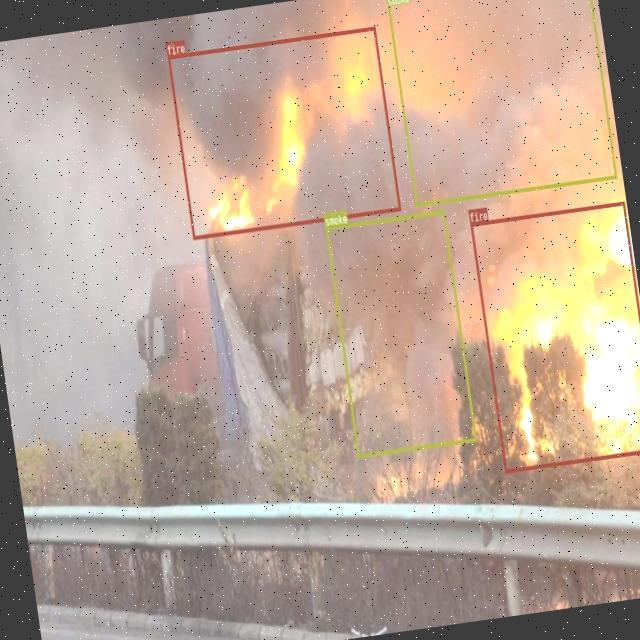fire: (167, 26, 400, 239), (469, 200, 640, 472)
smoke: (385, 0, 616, 206), (325, 210, 476, 457)
